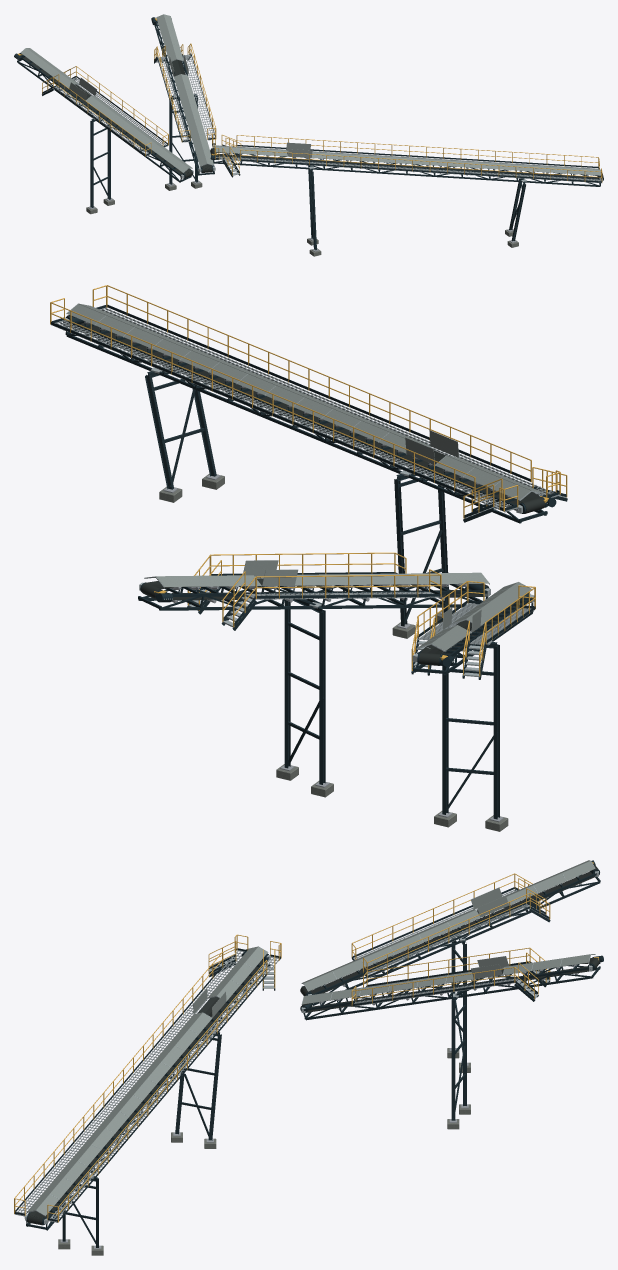
The model's file is mine-coal-conveyors.glb.
3 views of the same model, one above another, from view 1: azimuth 30°, elevation 25°; view 2: azimuth 150°, elevation 25°; view 3: azimuth 270°, elevation 25° (orthographic). The views are drawn at different scales.
Visible parts, largest first — view 1: Transport_steel, Transport_wall, Transport_safety, Transport_trim, Transport_rubber, Transport_concrete; view 2: Transport_steel, Transport_wall, Transport_safety, Transport_trim, Transport_rubber, Transport_concrete, Transport_machined; view 3: Transport_steel, Transport_wall, Transport_trim, Transport_safety, Transport_rubber, Transport_concrete.
Part boxes in pixels (x1,y1,x2,y2): Transport_steel: (14, 17, 603, 250); Transport_wall: (20, 14, 600, 175); Transport_safety: (18, 18, 602, 182); Transport_trim: (16, 14, 602, 183); Transport_rubber: (20, 53, 603, 180); Transport_concrete: (86, 180, 518, 256); Transport_steel: (51, 304, 567, 819); Transport_wall: (66, 303, 543, 650); Transport_safety: (50, 285, 567, 676); Transport_trim: (51, 304, 566, 677); Transport_rubber: (67, 315, 544, 665); Transport_concrete: (159, 473, 508, 831); Transport_machined: (84, 321, 534, 822); Transport_steel: (15, 860, 603, 1247); Transport_wall: (27, 860, 594, 1215); Transport_trim: (14, 861, 598, 1224); Transport_safety: (14, 862, 598, 1222); Transport_rubber: (27, 863, 599, 1225); Transport_concrete: (58, 1048, 470, 1255).
Bounding box in the file's own units: 39.72 × 12.77 × 37.11.
7 materials, 3 textured.
